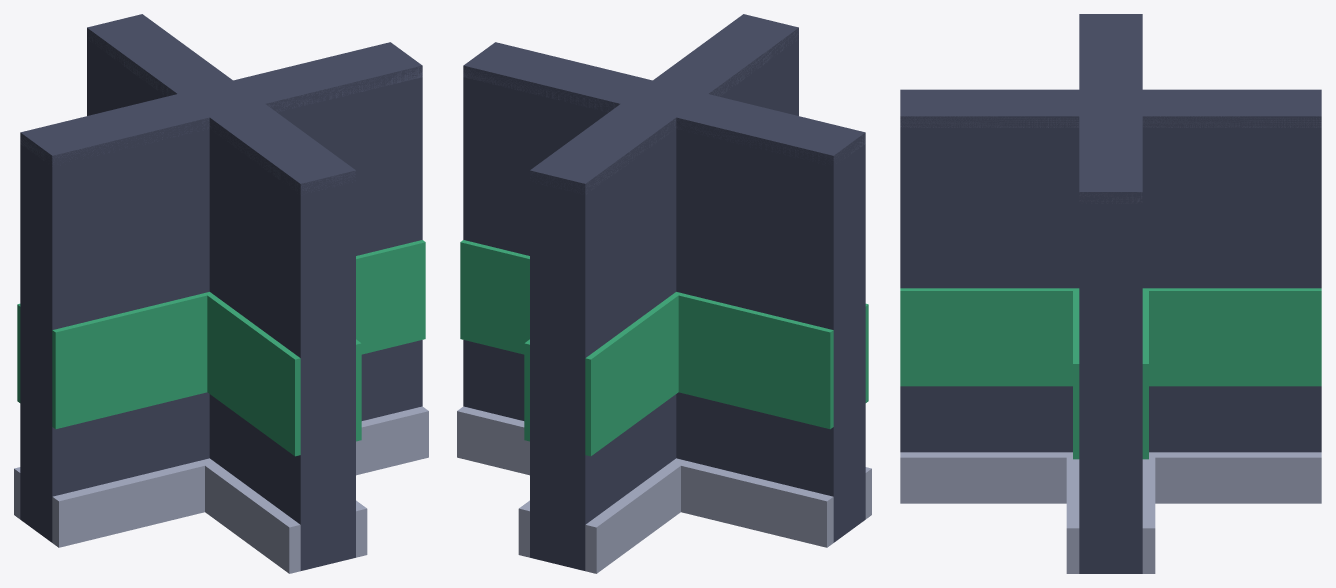
Rendered from partition-cross.glb.
3 renders of one model, left to right at view 1: azimuth 30°, elevation 25°; view 2: azimuth 150°, elevation 25°; view 3: azimuth 270°, elevation 25°, orthographic.
Visible parts, largest first — view 1: partition-cross; view 2: partition-cross; view 3: partition-cross.
Boxes of the visible parts, x1,y1,x2,y2 form: partition-cross: (14, 14, 428, 573); partition-cross: (457, 14, 871, 573); partition-cross: (900, 14, 1321, 573).
Bounding box in the file's own units: 1 × 1 × 1.
1 material, 1 textured.
